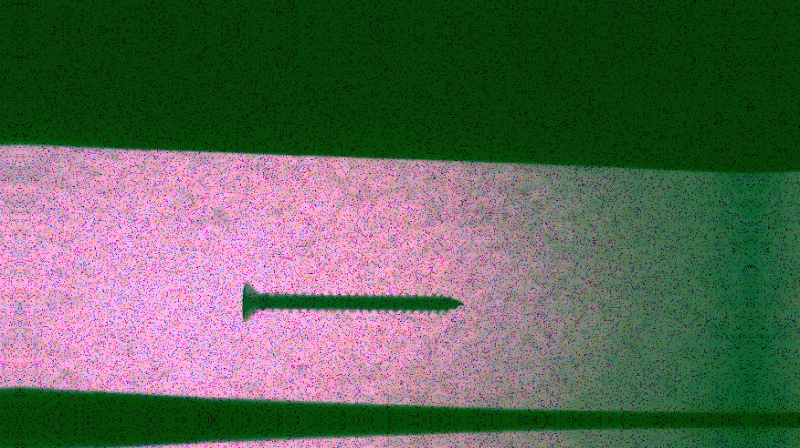S002: (238, 279, 466, 326)
